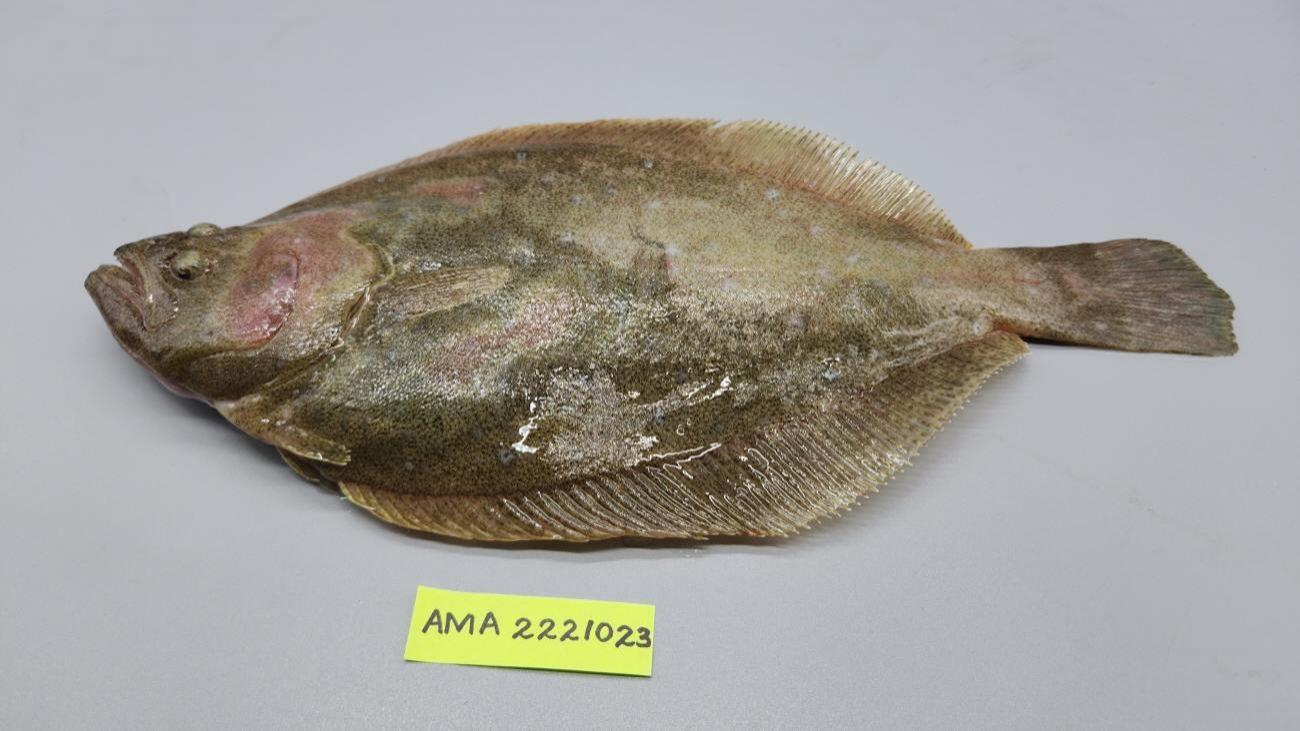MAOUY: (83, 120, 1238, 545)
